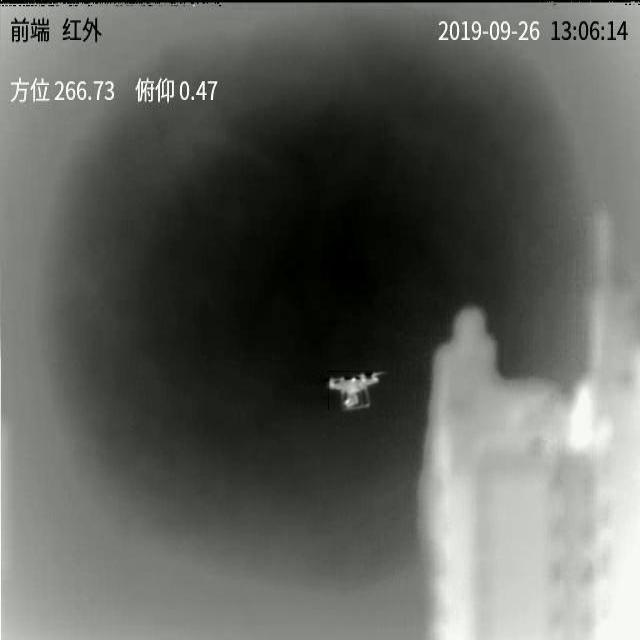drone: (329, 371, 385, 410)
